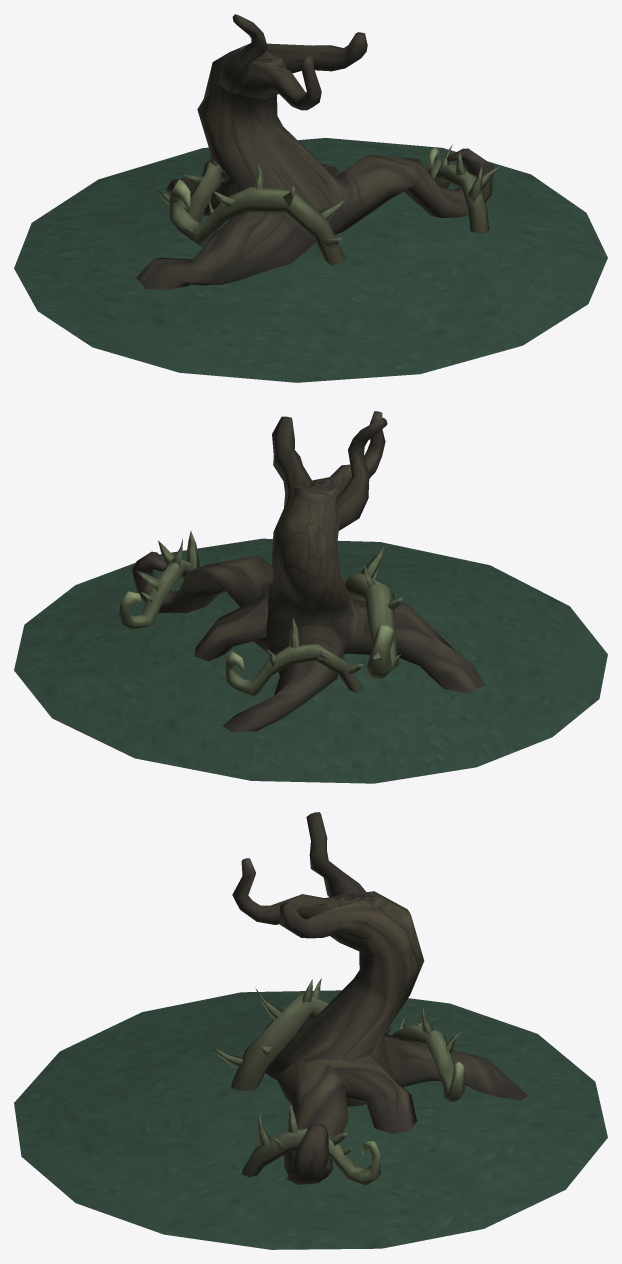
The model's file is arbolA.obj.
3 views of the same model, one above another, from view 1: azimuth 30°, elevation 25°; view 2: azimuth 150°, elevation 25°; view 3: azimuth 270°, elevation 25° (orthographic). The views are drawn at different scales.
Parts seen in each view (by area): view 1: Low_poly_Tree1; view 2: Low_poly_Tree1; view 3: Low_poly_Tree1.
Boxes of the visible parts, x1,y1,x2,y2 form: Low_poly_Tree1: (14, 14, 607, 382); Low_poly_Tree1: (14, 411, 607, 783); Low_poly_Tree1: (14, 812, 607, 1249).
Size of the model in its own units: 30.37 by 15.48 by 29.36.
